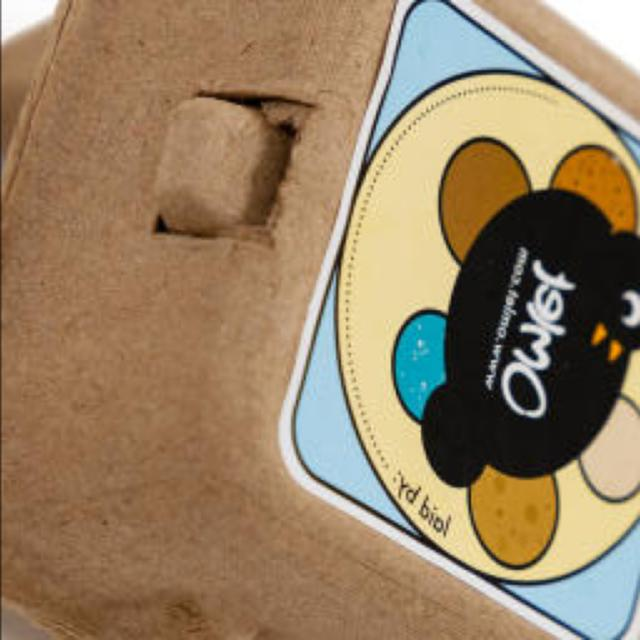egg carton: (0, 0, 640, 640)
